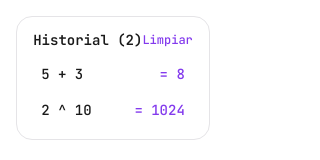
HistoryPanel › se colapsa con el toggle
What coordinates should you click on to do the following:
click the button "Historial (2)"
I would click on:
 (88, 40)
Its box is [33,29,142,51].
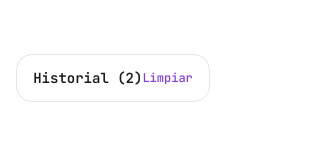
Check: the button "Historial (2)" is collapsed, box [33,67,142,89]
Check: the button "5 + 3" is gone
